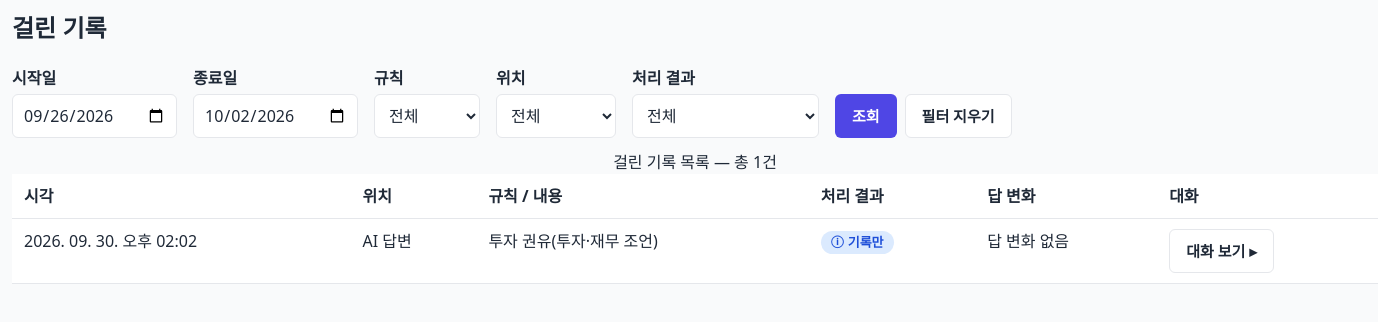
Test case: GR-5 걸린 기록 › 기간이 90일을 넘으면 조회하지 않고 인라인 오류를 보인다
Step 1. Type "2026-01-01" into the date field labelled "시작일" → point(94, 116), box [12,94,177,138]
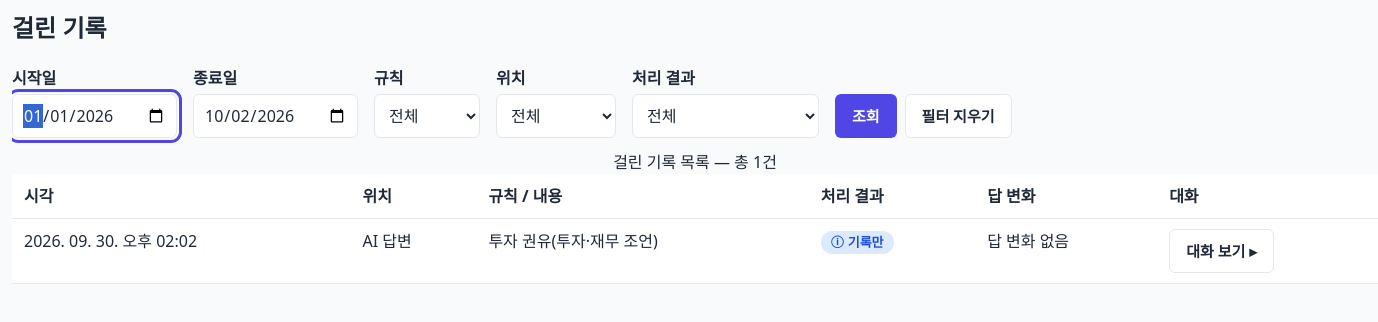
Step 2. Click the button "조회" → point(866, 116), box [835,94,897,138]
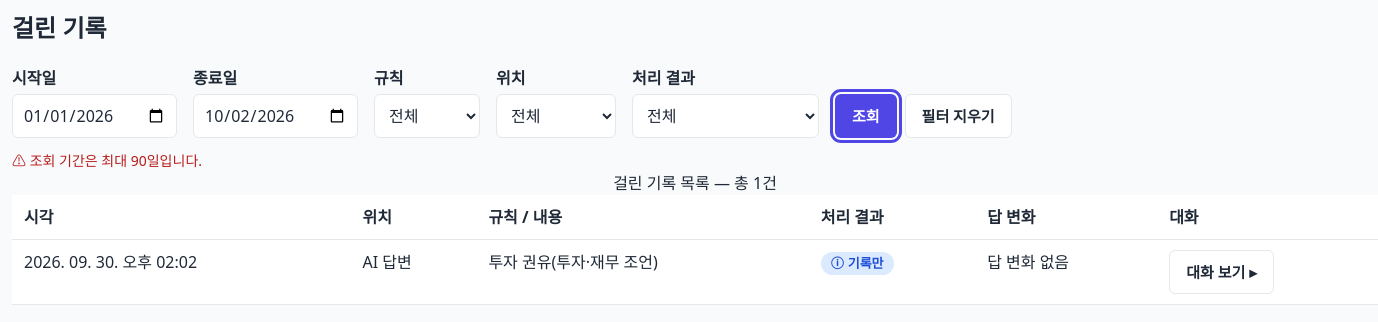
Expected: the text "조회 기간은 최대 90일입니다." is shown, [30,151,202,170]
